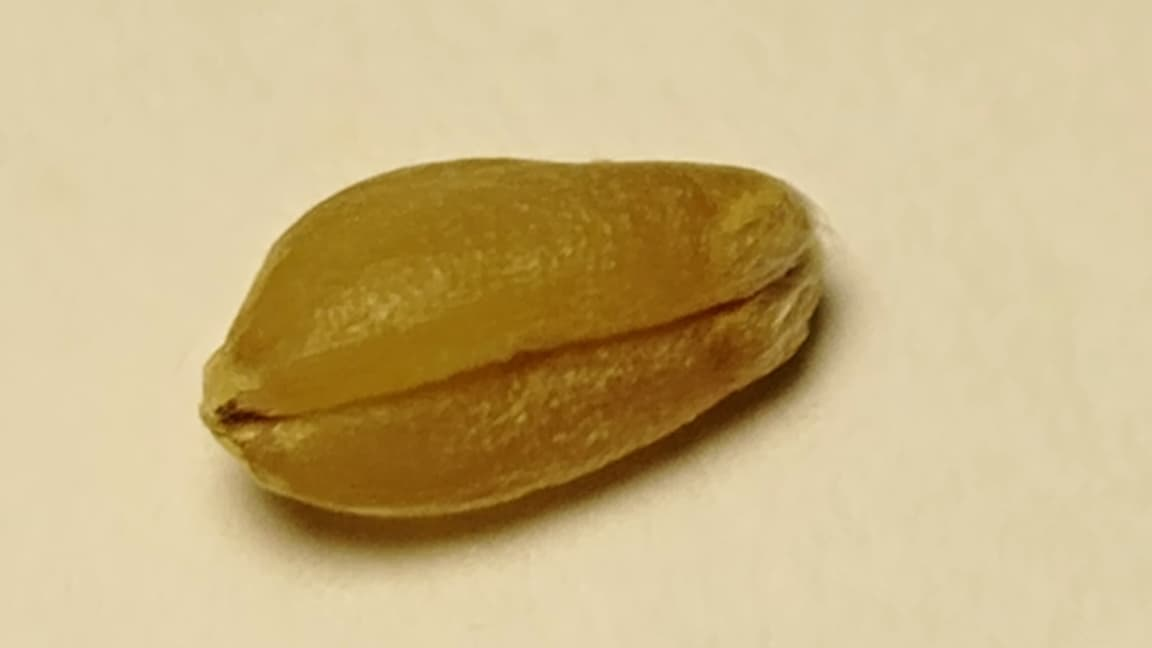healthy: (203, 158, 819, 513)
